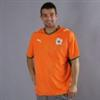abbigliamento_uomo: (24, 26, 79, 95)
